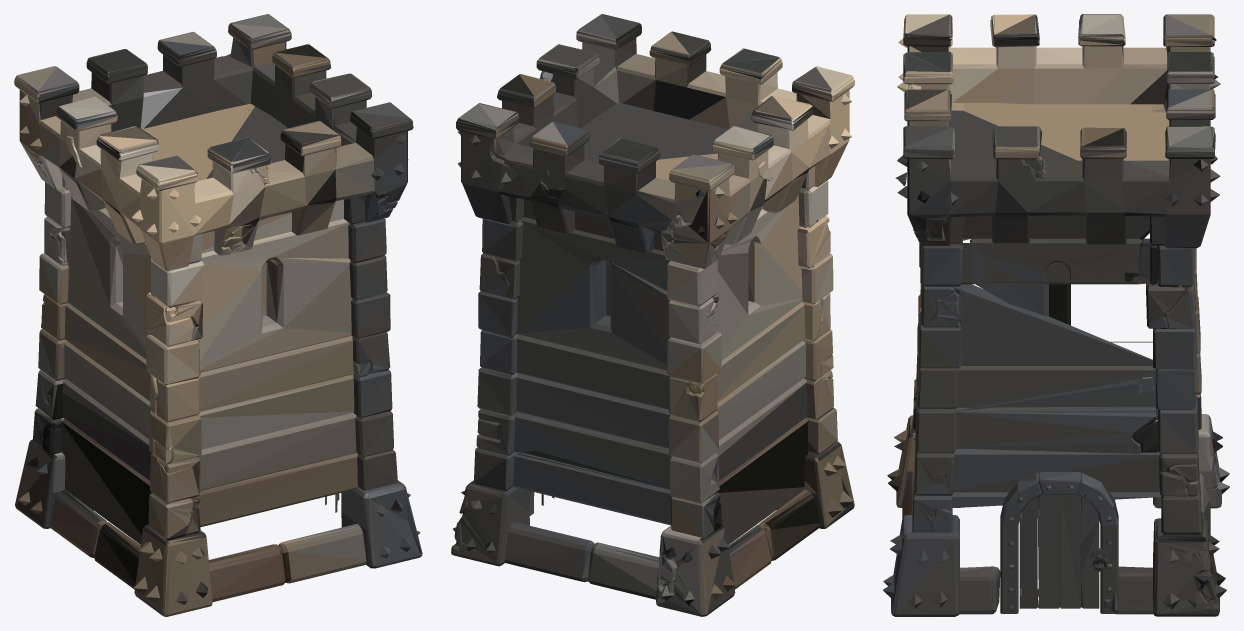
File: Tower_Corner.glb
The picture shows the model from 3 angles, left to right: view 1: azimuth 30°, elevation 25°; view 2: azimuth 150°, elevation 25°; view 3: azimuth 270°, elevation 25°; orthographic projection. The views are drawn at different scales.
Parts seen in each view (by area): view 1: world; view 2: world; view 3: world.
Boxes of the visible parts, box(x1,y1,x2,y2) form: world: box(14, 14, 422, 616); world: box(451, 14, 854, 616); world: box(883, 14, 1229, 616).
Size of the model in its own units: 0.666 by 0.998 by 0.6699.
